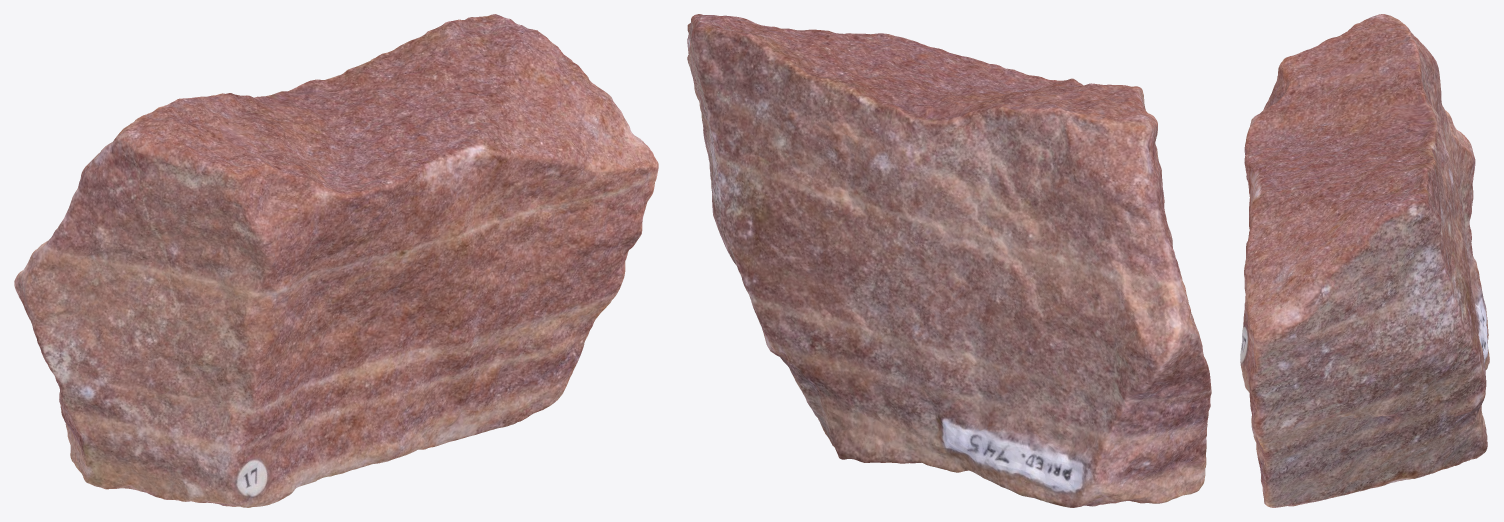
File: sandstone.glb
3 renders of one model, left to right at view 1: azimuth 30°, elevation 25°; view 2: azimuth 150°, elevation 25°; view 3: azimuth 270°, elevation 25°, orthographic. The views are drawn at different scales.
Visible parts, largest first — view 1: Object_2; view 2: Object_2; view 3: Object_2.
Boxes of the visible parts, left/top/right/bottom form: Object_2: left=14, top=14, right=658, bottom=507; Object_2: left=687, top=14, right=1211, bottom=507; Object_2: left=1240, top=14, right=1489, bottom=507.
Bounding box in the file's own units: 0.1 × 0.0618 × 0.04.
1 material, 1 textured.
